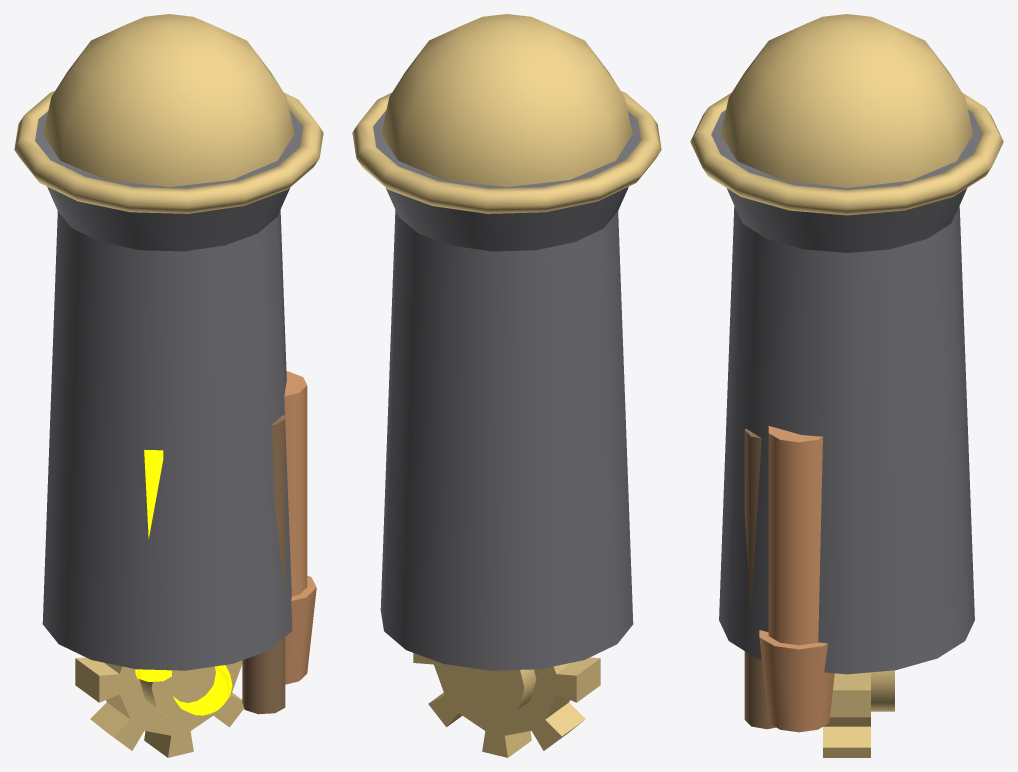
Rendered from mechanical_arm_left.glb.
3 renders of one model, left to right at view 1: azimuth 30°, elevation 25°; view 2: azimuth 150°, elevation 25°; view 3: azimuth 270°, elevation 25°, orthographic.
Visible parts, largest first — view 1: upper, shoulder, elbow, piston, tubes, glow; view 2: upper, shoulder, elbow; view 3: upper, shoulder, piston, elbow, tubes.
Boxes of the visible parts, left/top/right/bottom form: upper: left=35, top=110, right=302, bottom=670; shoulder: left=14, top=14, right=323, bottom=213; elbow: left=75, top=657, right=243, bottom=757; piston: left=284, top=371, right=316, bottom=684; tubes: left=242, top=414, right=285, bottom=714; glow: left=135, top=449, right=232, bottom=715; upper: left=373, top=110, right=640, bottom=670; shoulder: left=352, top=14, right=661, bottom=213; elbow: left=413, top=653, right=600, bottom=757; upper: left=711, top=110, right=982, bottom=674; shoulder: left=690, top=14, right=1003, bottom=215; piston: left=759, top=426, right=834, bottom=732; elbow: left=823, top=670, right=894, bottom=757; tubes: left=744, top=428, right=775, bottom=729.
Bounding box in the file's own units: 0.196 × 0.4993 × 0.196.
